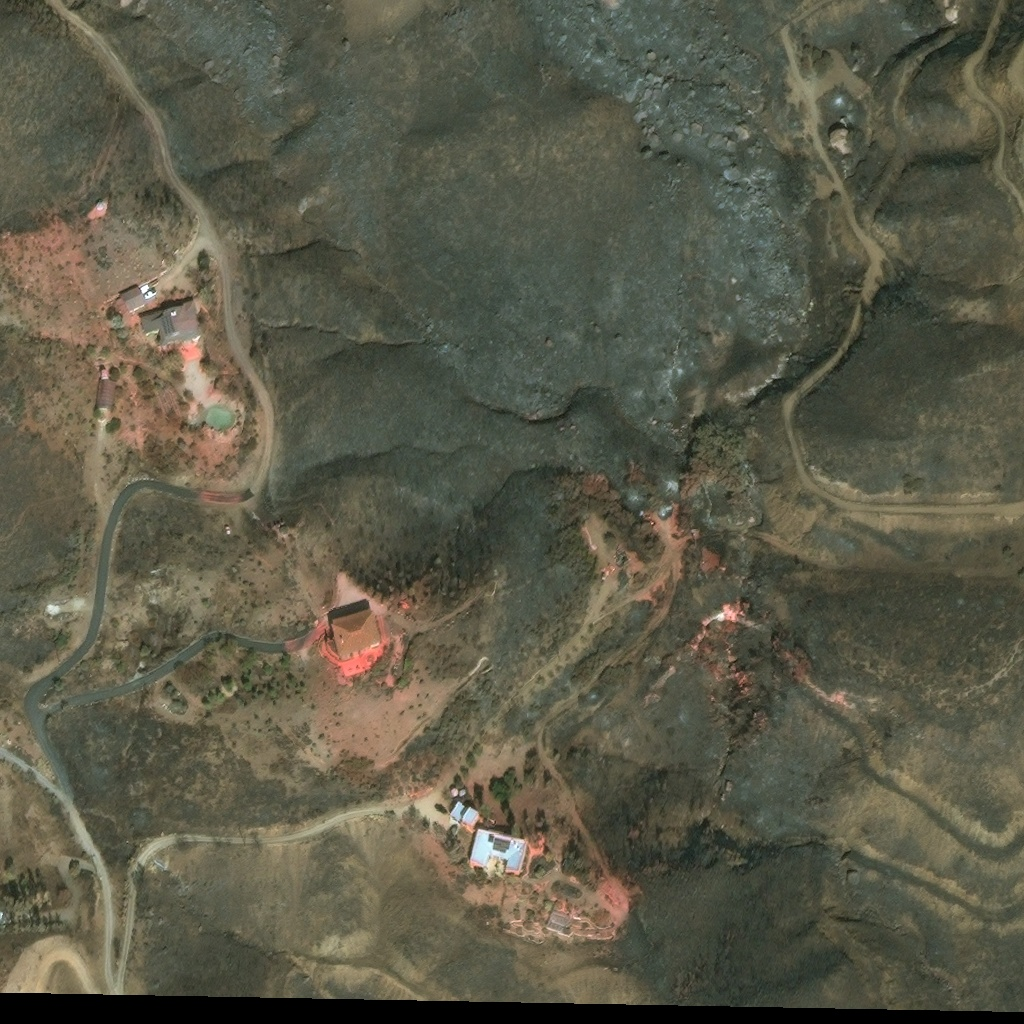0 no-damage: (141, 303, 202, 351), (470, 831, 527, 876), (329, 611, 382, 658), (450, 803, 483, 832), (119, 287, 148, 313), (546, 911, 572, 934), (97, 381, 116, 412), (101, 371, 109, 382), (450, 789, 458, 797), (459, 792, 467, 800), (97, 205, 104, 213)
3 destroyed: (0, 910, 13, 927)
